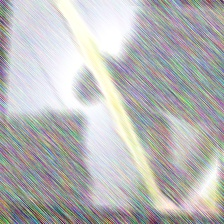Leaf_Blast: (50, 0, 164, 196)
